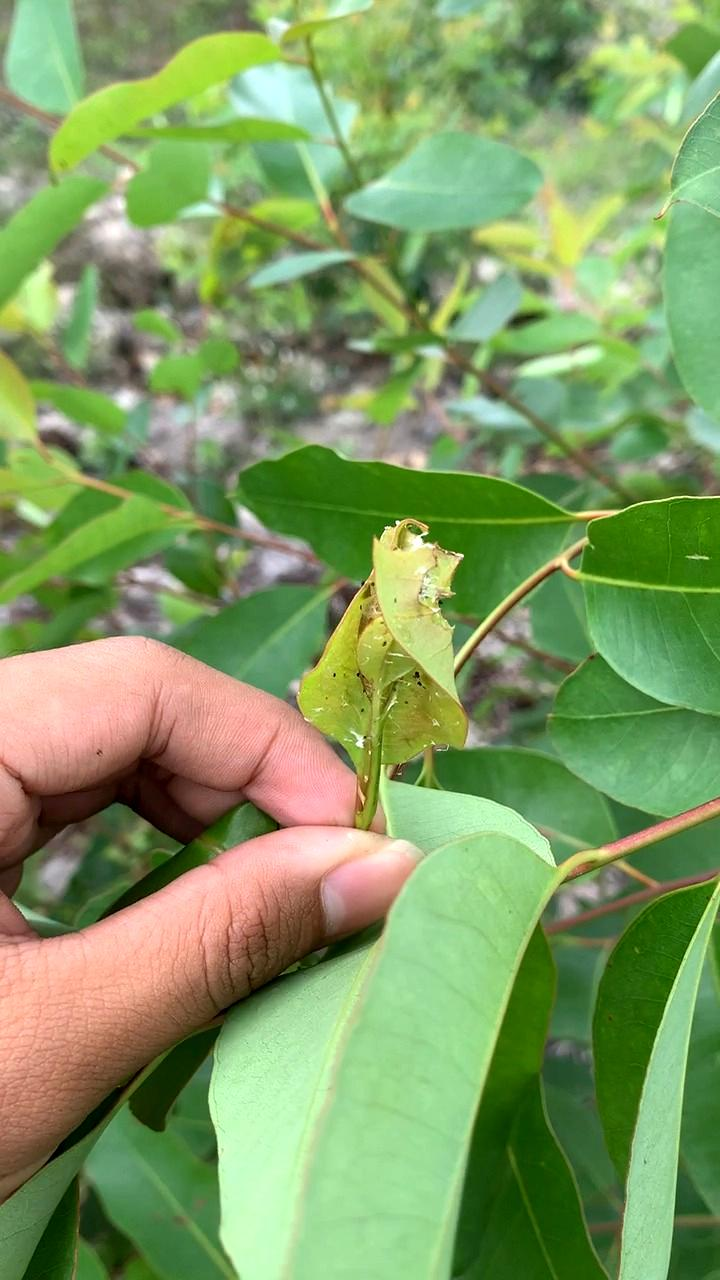Leaf Roller - Leaf: (308, 518, 473, 765)
